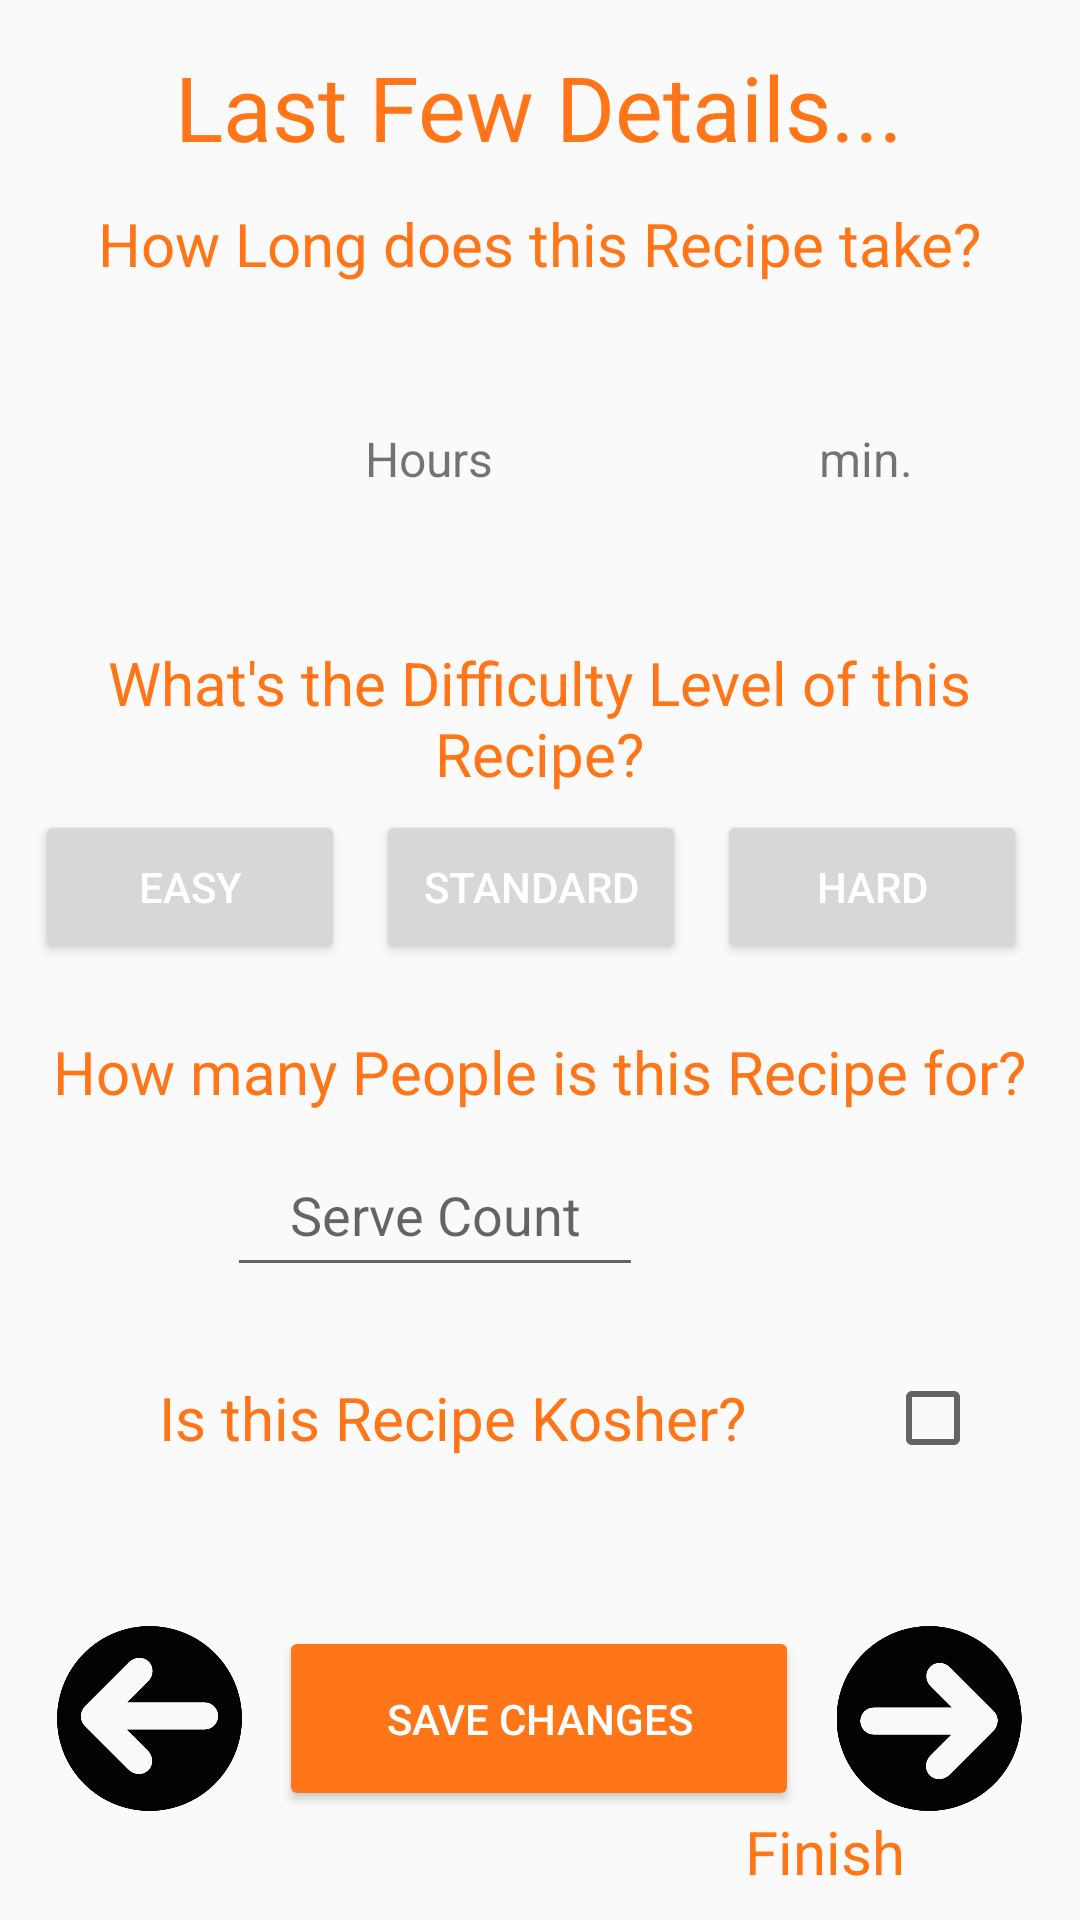

Icon bounding boxes for this 1080px×1920px phone screenshot, format bbox(x1, y1, x2, y2):
left arrow: bbox(57, 1626, 242, 1811)
right arrow: bbox(837, 1626, 1022, 1811)
